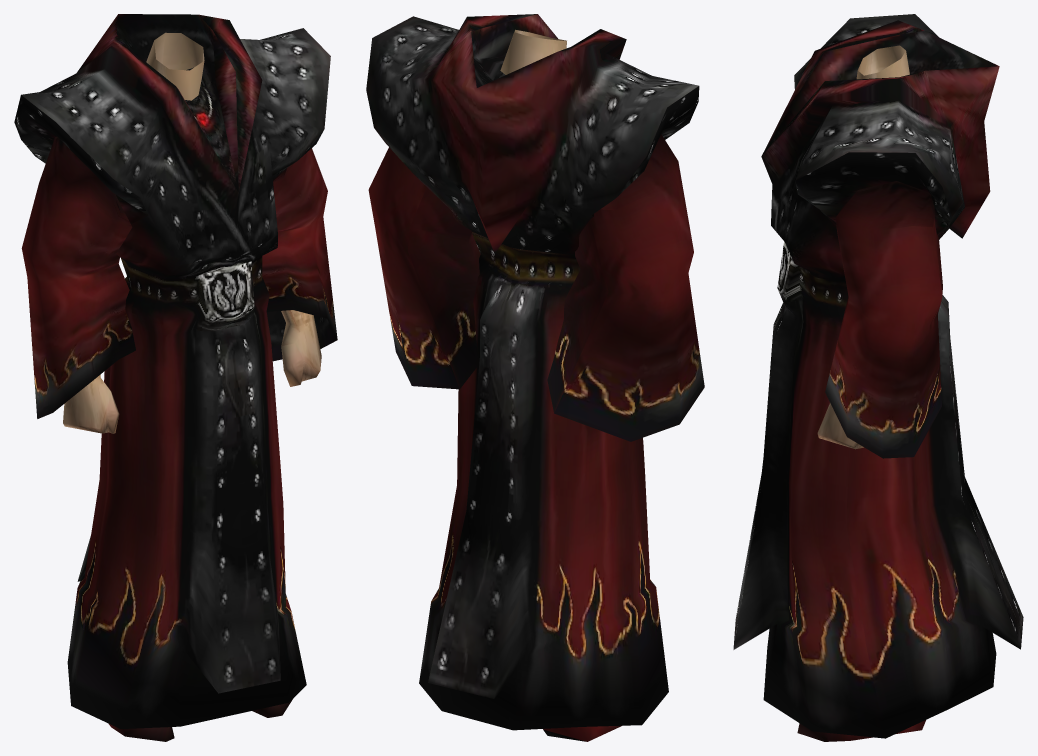
File: ARMOR_KDF_L.glb
The picture shows the model from 3 angles, left to right: view 1: azimuth 30°, elevation 25°; view 2: azimuth 150°, elevation 25°; view 3: azimuth 270°, elevation 25°; orthographic projection. The views are drawn at different scales.
Parts seen in each view (by area): view 1: ARMOR_KDF_L; view 2: ARMOR_KDF_L; view 3: ARMOR_KDF_L.
Part boxes in pixels (box(x1,y1,x2,y2)): ARMOR_KDF_L: box(14, 14, 337, 741); ARMOR_KDF_L: box(366, 14, 704, 741); ARMOR_KDF_L: box(733, 14, 1023, 741).
Bounding box in the file's own units: 0.7809 × 1.68 × 0.6734.
Materials: 2 (2 with a texture image).
